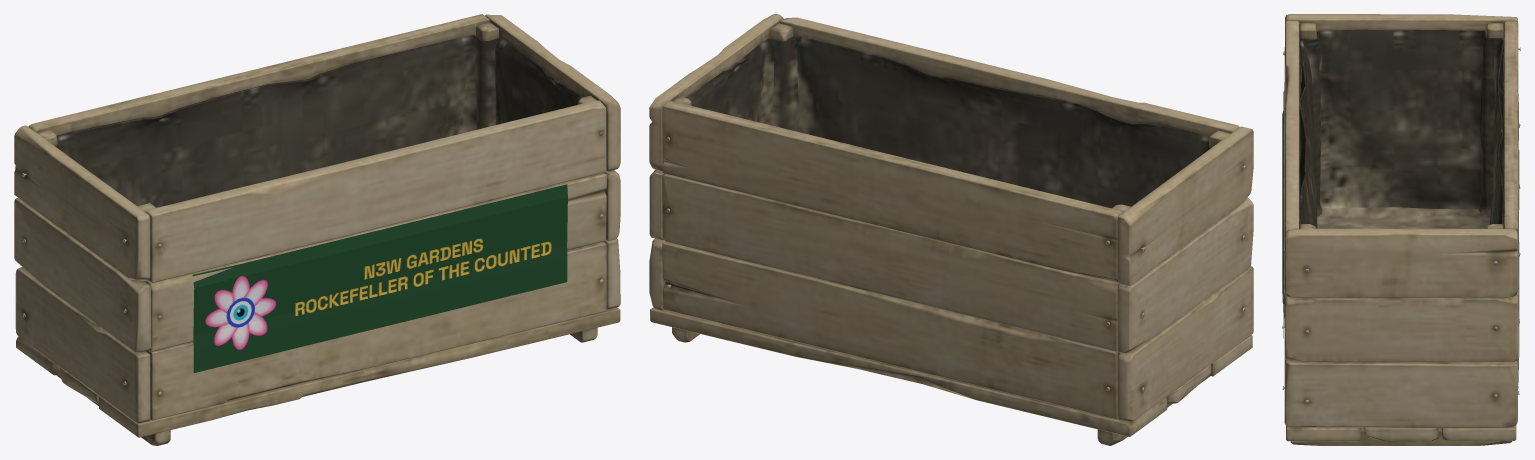
Rendered from nyb_rink_planter.glb.
3 views of the same model, side by side, from view 1: azimuth 30°, elevation 25°; view 2: azimuth 150°, elevation 25°; view 3: azimuth 270°, elevation 25° (orthographic). The views are drawn at different scales.
Visible parts, largest first — view 1: planter_box_01, stk_lbl_453d0c2ab2.png; view 2: planter_box_01; view 3: planter_box_01, stk_lbl_453d0c2ab2.png.
Boxes of the visible parts, box(x1,y1,x2,y2) form: planter_box_01: box(14, 14, 620, 445); stk_lbl_453d0c2ab2.png: box(192, 184, 567, 372); planter_box_01: box(649, 14, 1253, 445); planter_box_01: box(1282, 14, 1520, 445); stk_lbl_453d0c2ab2.png: box(1282, 111, 1284, 338).
Size of the model in its own units: 0.9126 by 0.425 by 0.4141.
Materials: 2 (2 with a texture image).
